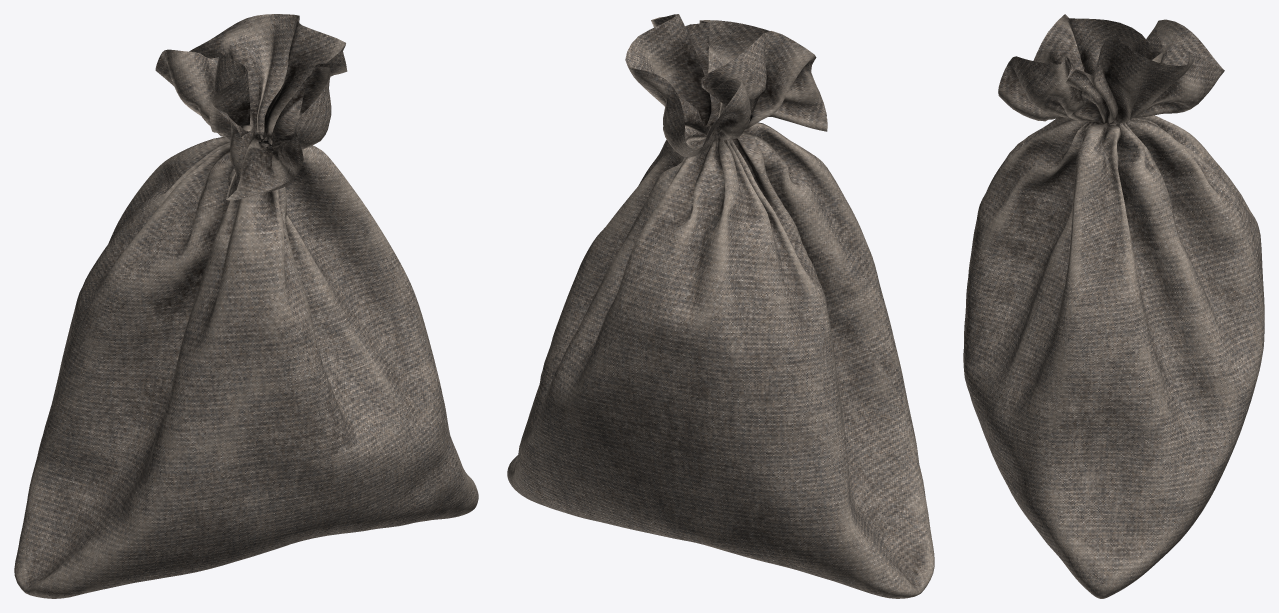
The model's file is Yeast.fbx.
3 views of the same model, side by side, from view 1: azimuth 30°, elevation 25°; view 2: azimuth 150°, elevation 25°; view 3: azimuth 270°, elevation 25° (orthographic). The views are drawn at different scales.
Visible parts, largest first — view 1: Flour_Bag_LP; view 2: Flour_Bag_LP; view 3: Flour_Bag_LP.
Part boxes in pixels (left/top/right/bottom): Flour_Bag_LP: left=14, top=14, right=478, bottom=598; Flour_Bag_LP: left=507, top=14, right=934, bottom=598; Flour_Bag_LP: left=963, top=14, right=1264, bottom=598.
Size of the model in its own units: 35.14 by 40.52 by 22.77.
